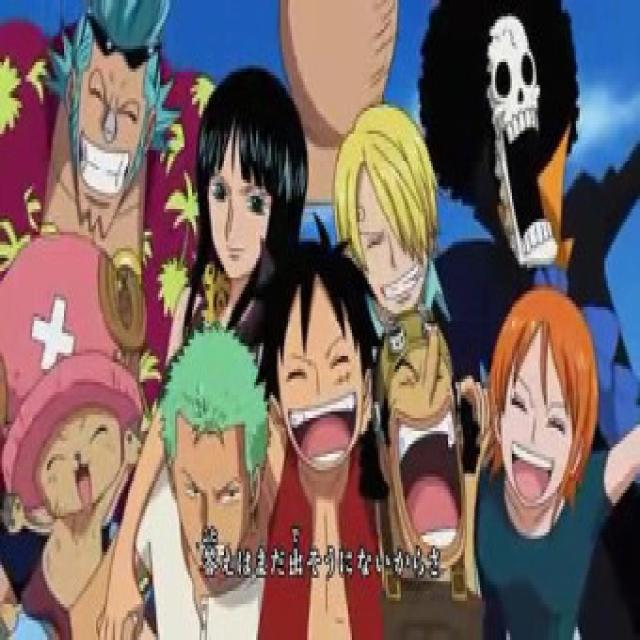Blook: (422, 0, 587, 273)
Chyopa: (0, 229, 157, 640)
Franky: (61, 0, 160, 246)
Luffy: (266, 238, 376, 506)
Nami: (477, 284, 618, 527)
NicoRobin: (189, 67, 310, 284)
Sangdi: (327, 104, 439, 312)
Usopp: (373, 307, 470, 598)
Zoro: (138, 307, 272, 567)
